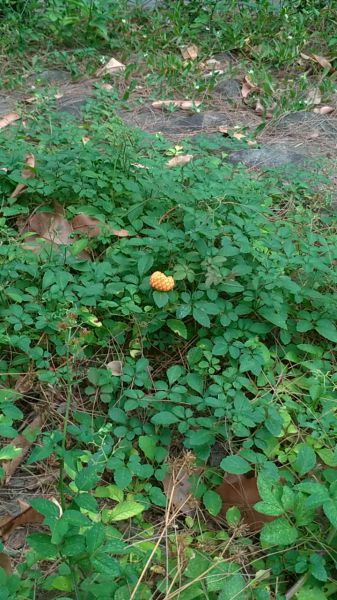eggs: (144, 269, 180, 295)
